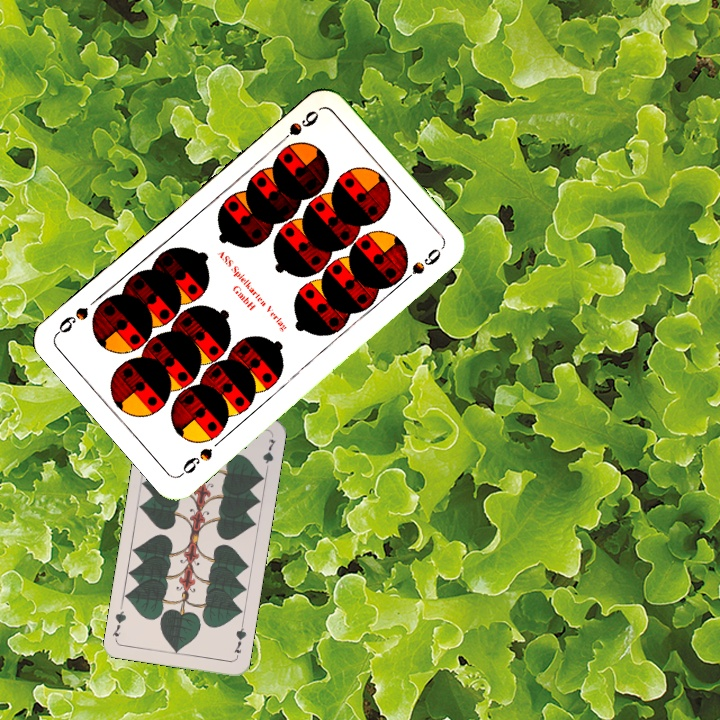G7: (230, 620, 249, 656)
S9: (273, 106, 322, 148), (176, 443, 215, 479)
